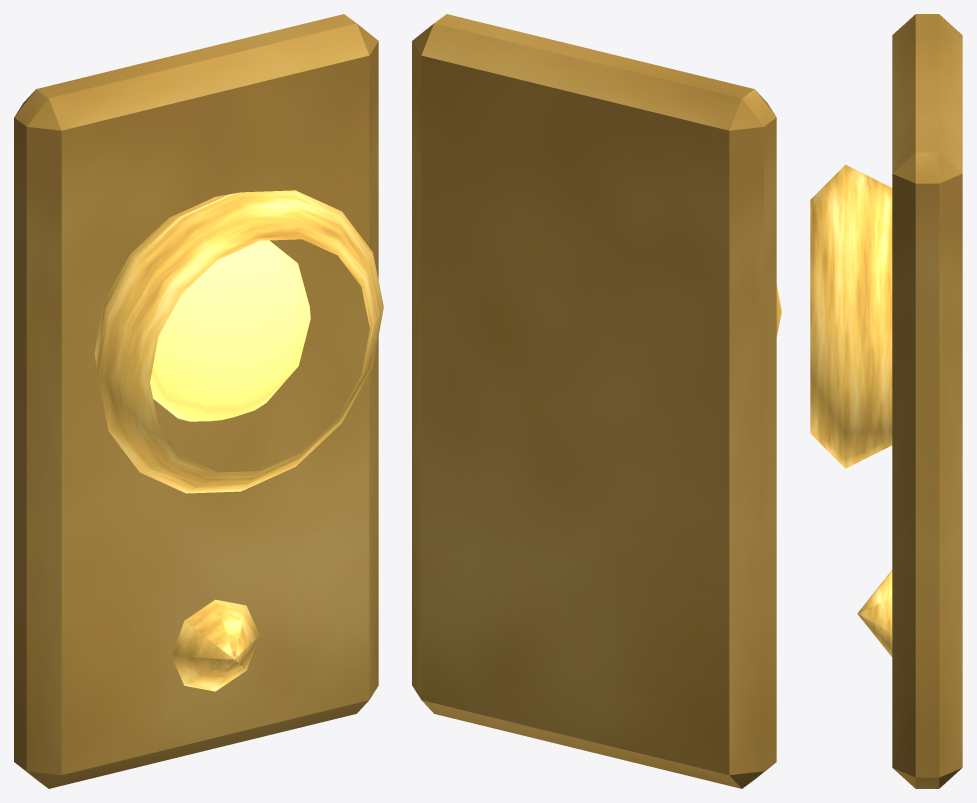
File: sp_lift_call.glb
3 renders of one model, left to right at view 1: azimuth 30°, elevation 25°; view 2: azimuth 150°, elevation 25°; view 3: azimuth 270°, elevation 25°, orthographic. The views are drawn at different scales.
Visible parts, largest first — view 1: spire; view 2: spire; view 3: spire.
Part boxes in pixels (x1,y1,x2,y2): spire: (14,14,383,788); spire: (412,14,781,788); spire: (810,14,962,788).
Bounding box in the file's own units: 0.16 × 0.3 × 0.065.
3 materials, 2 textured.
